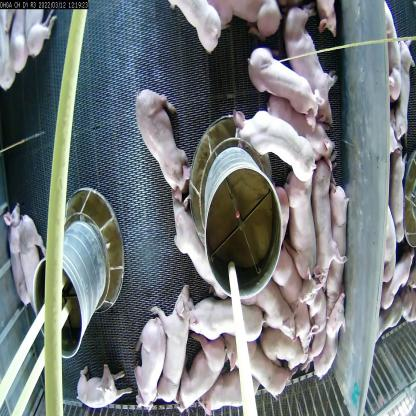Pig: (246, 44, 322, 123), (147, 290, 194, 415), (134, 88, 185, 195), (244, 106, 317, 178), (284, 163, 327, 285), (188, 290, 262, 353), (19, 206, 55, 308), (176, 332, 224, 404), (164, 215, 209, 289), (257, 273, 299, 345), (137, 312, 171, 400), (242, 340, 291, 398), (326, 286, 352, 390), (6, 198, 31, 303), (192, 371, 248, 415), (327, 182, 350, 282), (314, 148, 324, 271)
